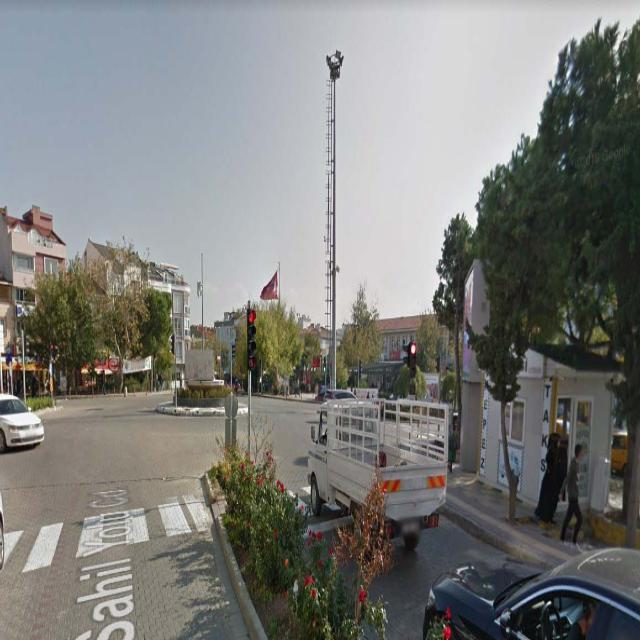kirmizi: (247, 309, 256, 345), (409, 341, 417, 379)
